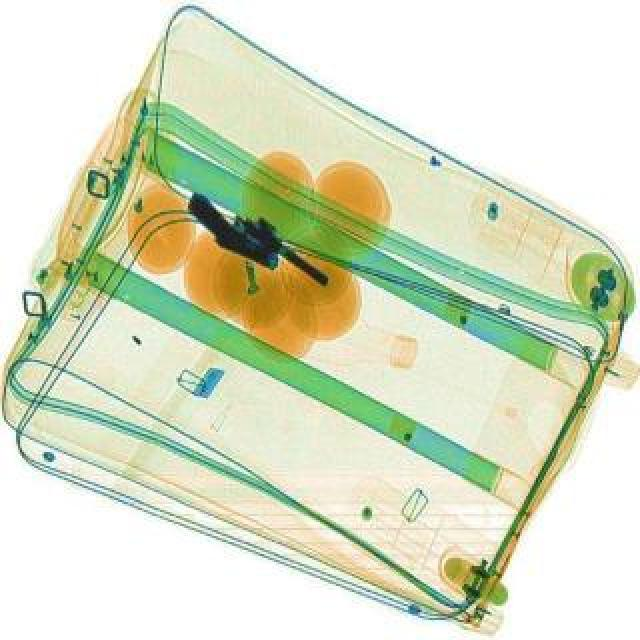gun: (226, 204, 338, 294), (178, 190, 294, 266)
